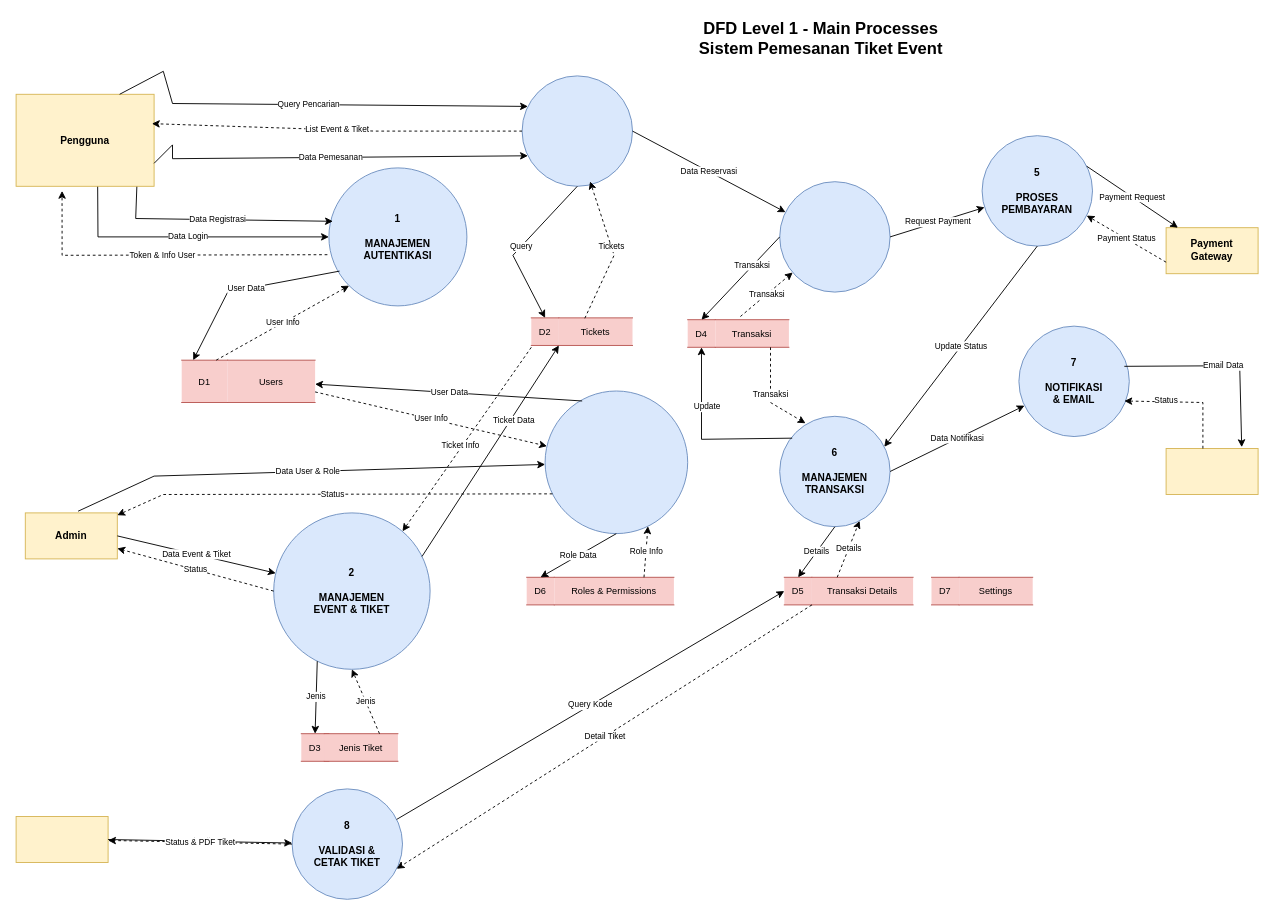
Some shapes in this 1274 by 915 pixel diagram are drawn without their labels. The box of each missing label's shape, as (x1, y1, x2, y2) in pixels:
3 PENCARIAN & PEMESANAN TIKET: (521, 75, 632, 186)
4 PROSES CHECKOUT: (779, 181, 890, 292)
9 MANAJEMEN USER & ROLE: (544, 390, 688, 534)
Email Service: (1165, 448, 1258, 494)
Petugas Validasi: (15, 816, 108, 862)
